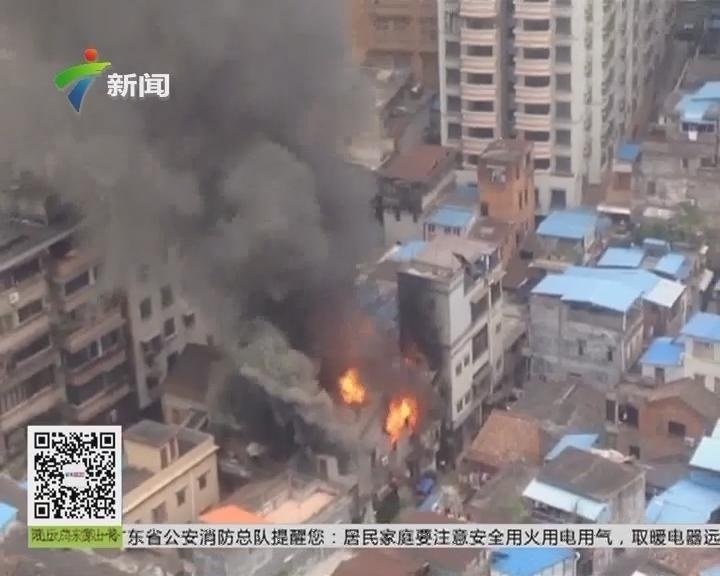fire: (384, 391, 419, 438), (338, 366, 366, 406)
